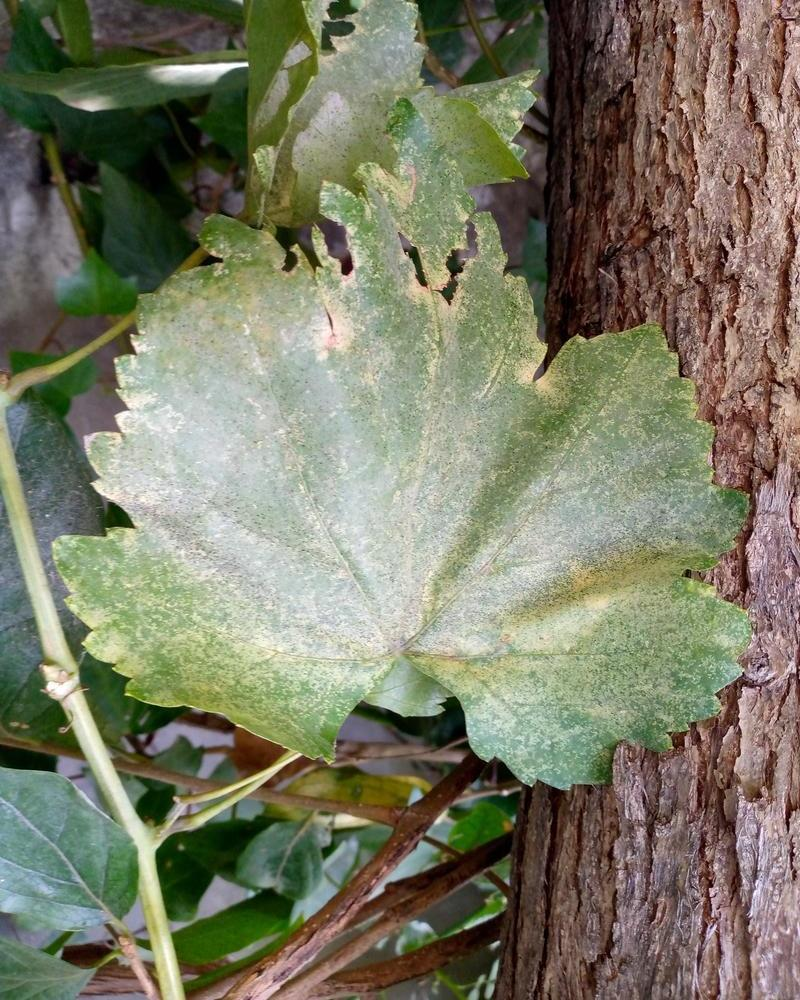Powdery-Mildew: (403, 422, 582, 653), (536, 544, 678, 648), (386, 213, 505, 329), (504, 341, 579, 422), (104, 380, 188, 449), (301, 308, 364, 371), (506, 330, 569, 393), (319, 447, 382, 510), (123, 460, 186, 523), (367, 567, 430, 630), (299, 615, 362, 678), (595, 338, 640, 423)
